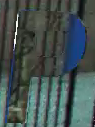Parking: (4, 0, 91, 125)
